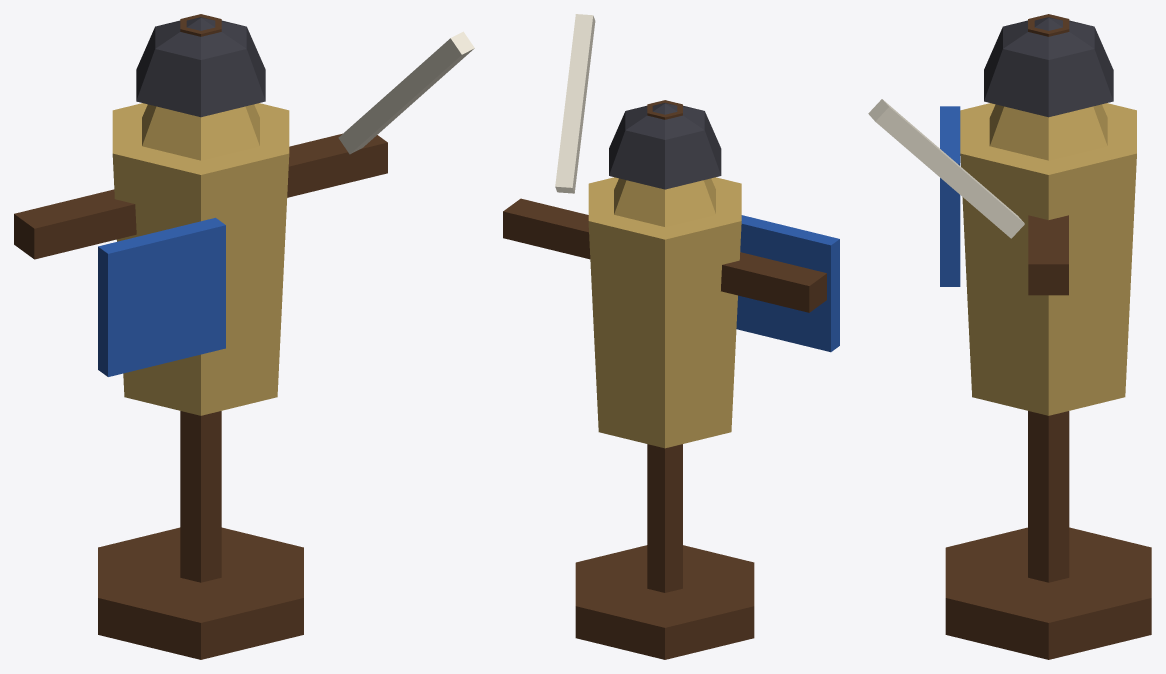
File: Training_Dummy.fbx
The picture shows the model from 3 angles, left to right: view 1: azimuth 30°, elevation 25°; view 2: azimuth 150°, elevation 25°; view 3: azimuth 270°, elevation 25°; orthographic projection. The views are drawn at different scales.
Visible parts, largest first — view 1: Training_Dummy; view 2: Training_Dummy; view 3: Training_Dummy.
Boxes of the visible parts, x1,y1,x2,y2 form: Training_Dummy: (14, 14, 474, 659); Training_Dummy: (503, 14, 839, 659); Training_Dummy: (868, 14, 1151, 659).
Size of the model in its own units: 1.24 by 1.92 by 0.834.
